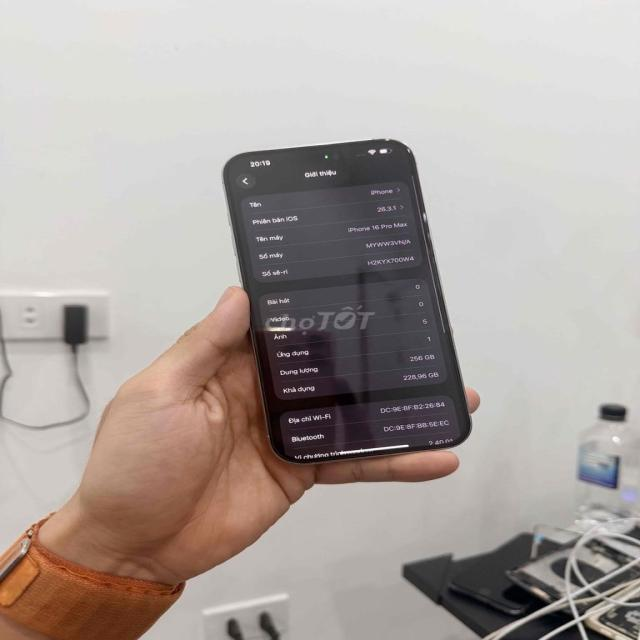gen_16: (219, 135, 474, 468)
